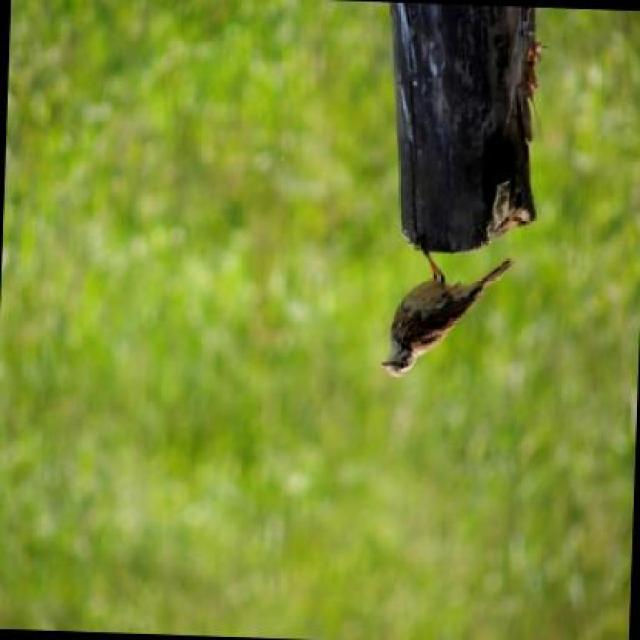Bird: (375, 250, 520, 382)
